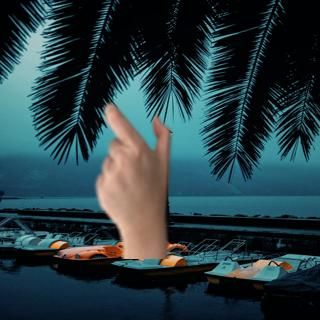HATE: (89, 96, 177, 249)
